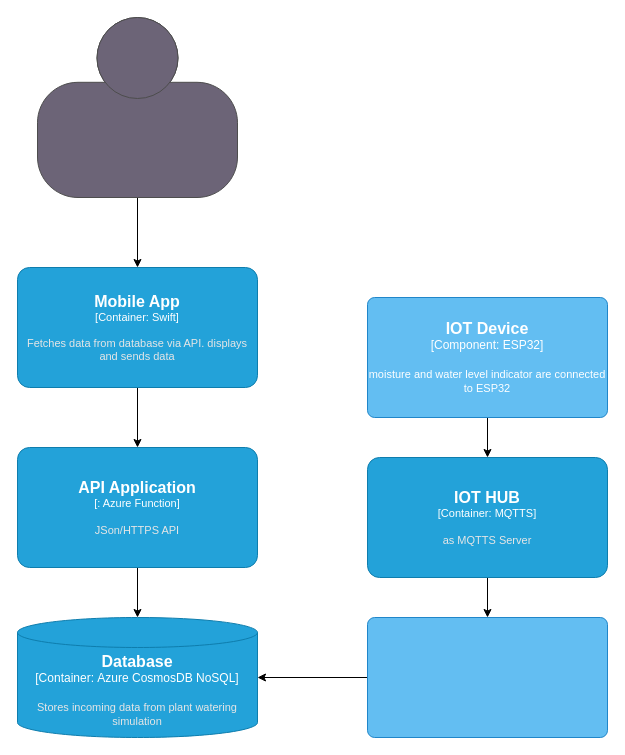
Image size: 625x755. Some labels were removed from this diagram. Each missing label, with the centre of its shape:
"Stream Analytics job [Component: ] converts raw data" goes at pixel 487 677.
"User [Person] The end user interacts with the data via a mobile app." goes at pixel 137 107.
